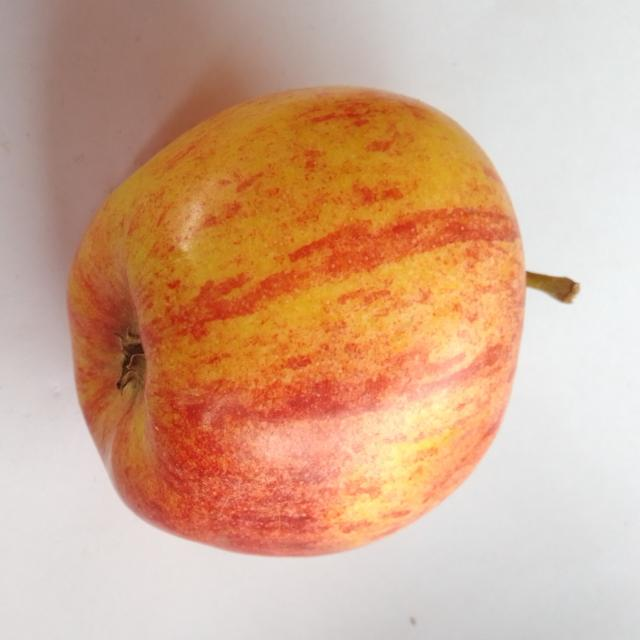apple: (68, 88, 579, 554), (68, 89, 525, 554)
